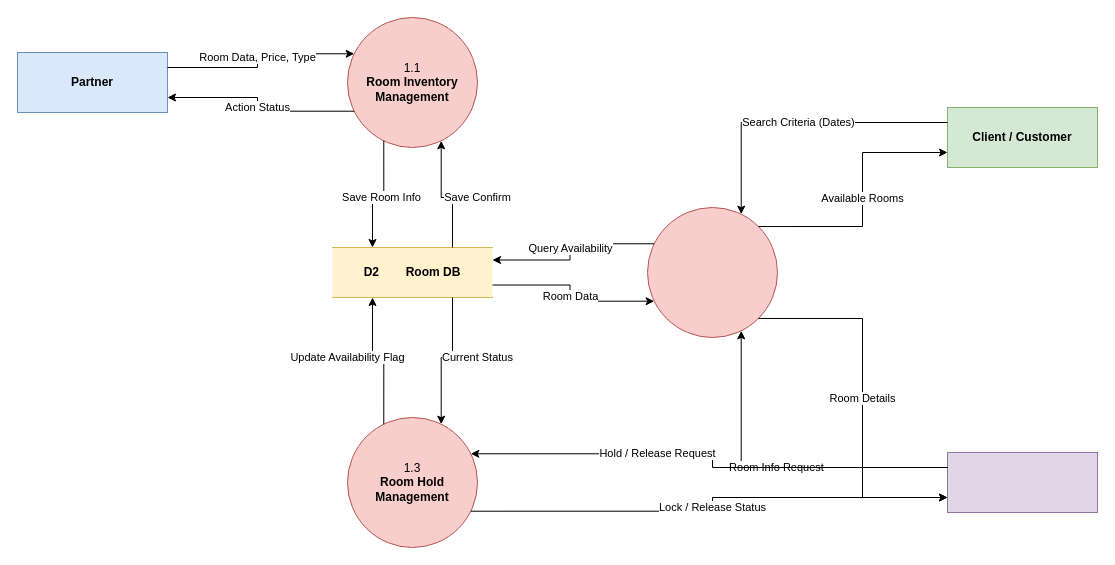
Image size: 1115x565. Some labels were removed from this diagram. The shapes that lost their labels are listed below. From the top down, each one's centre as x and y in pixels, then its label:
(x=712, y=272): 1.2 Availability & Search
(x=1022, y=482): Booking Service
